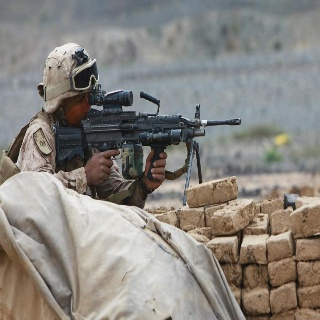rifle: (52, 86, 243, 207)
